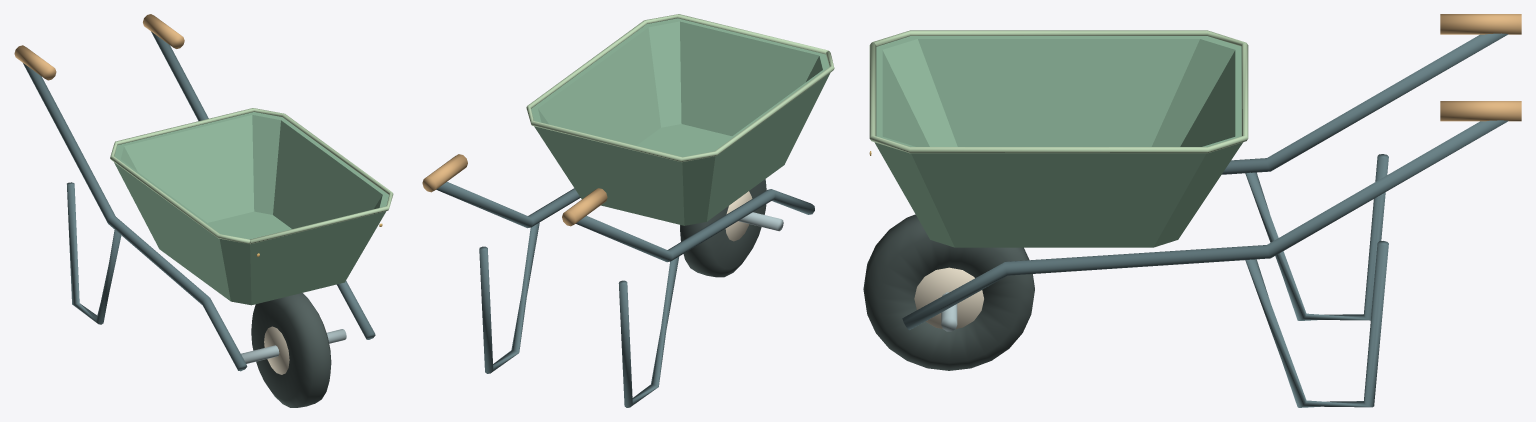
File: brouette.glb
3 renders of one model, left to right at view 1: azimuth 30°, elevation 25°; view 2: azimuth 150°, elevation 25°; view 3: azimuth 270°, elevation 25°, orthographic. The views are drawn at different scales.
Parts seen in each view (by area): view 1: brouette; view 2: brouette; view 3: brouette.
Boxes of the visible parts, <box> form: brouette: <box>14,14,393,407</box>; brouette: <box>422,14,834,407</box>; brouette: <box>863,14,1521,407</box>.
Size of the model in its own units: 0.6 by 0.7209 by 1.4.
